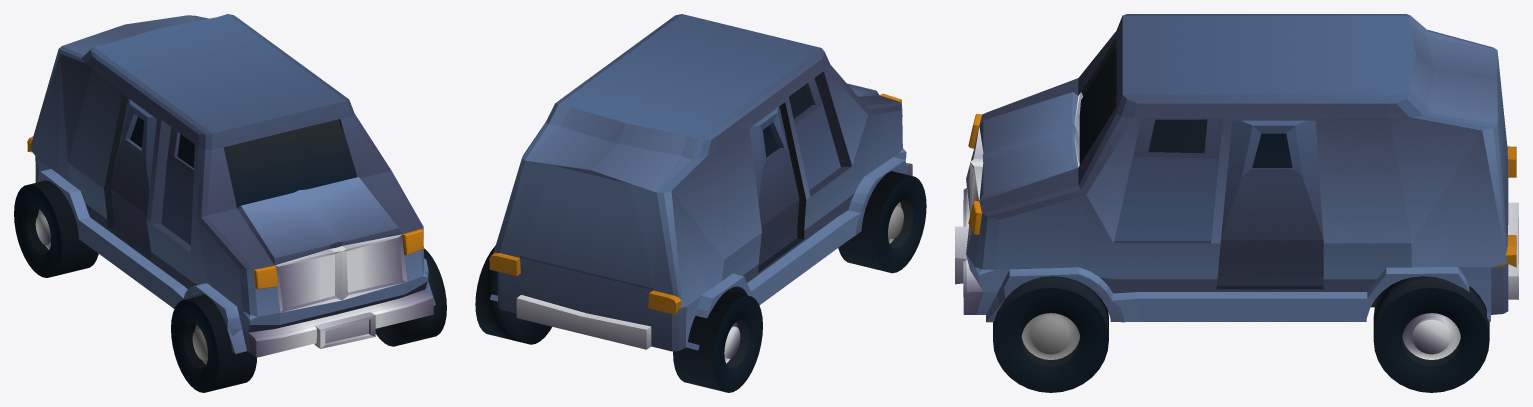
File: Old SwatVan.fbx
3 renders of one model, left to right at view 1: azimuth 30°, elevation 25°; view 2: azimuth 150°, elevation 25°; view 3: azimuth 270°, elevation 25°, orthographic. The views are drawn at different scales.
Parts seen in each view (by area): view 1: Sedan.002, Wheels.005, Screen, Wheels.004, Licence; view 2: Sedan.002, Wheels.004, Wheels.005; view 3: Sedan.002, Wheels.004, Wheels.005, Screen, Licence.
Boxes of the visible parts, x1,y1,x2,y2 form: Sedan.002: [27, 14, 435, 357]; Wheels.005: [171, 248, 446, 392]; Screen: [224, 119, 357, 208]; Wheels.004: [14, 180, 98, 277]; Licence: [314, 312, 375, 348]; Sedan.002: [489, 14, 912, 351]; Wheels.004: [475, 245, 762, 392]; Wheels.005: [838, 171, 926, 273]; Sedan.002: [963, 14, 1518, 322]; Wheels.004: [1373, 276, 1489, 392]; Wheels.005: [993, 276, 1108, 392]; Screen: [1079, 46, 1116, 164]; Licence: [955, 226, 968, 284].
Size of the model in its own units: 825 by 769 by 1455.
Materials: 1 (1 with a texture image).
